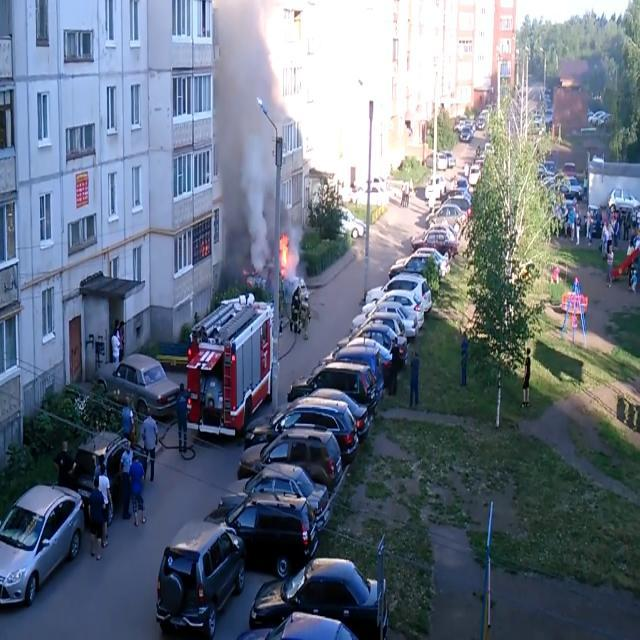Fire: (278, 230, 292, 276)
Smoke: (209, 1, 293, 290)
